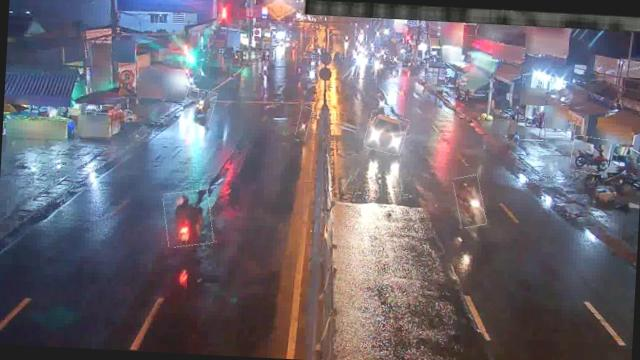Bike: (162, 188, 214, 248), (452, 176, 486, 228), (569, 134, 610, 173), (180, 86, 214, 126), (296, 106, 310, 142), (377, 90, 388, 114)
Car: (363, 112, 408, 155)
